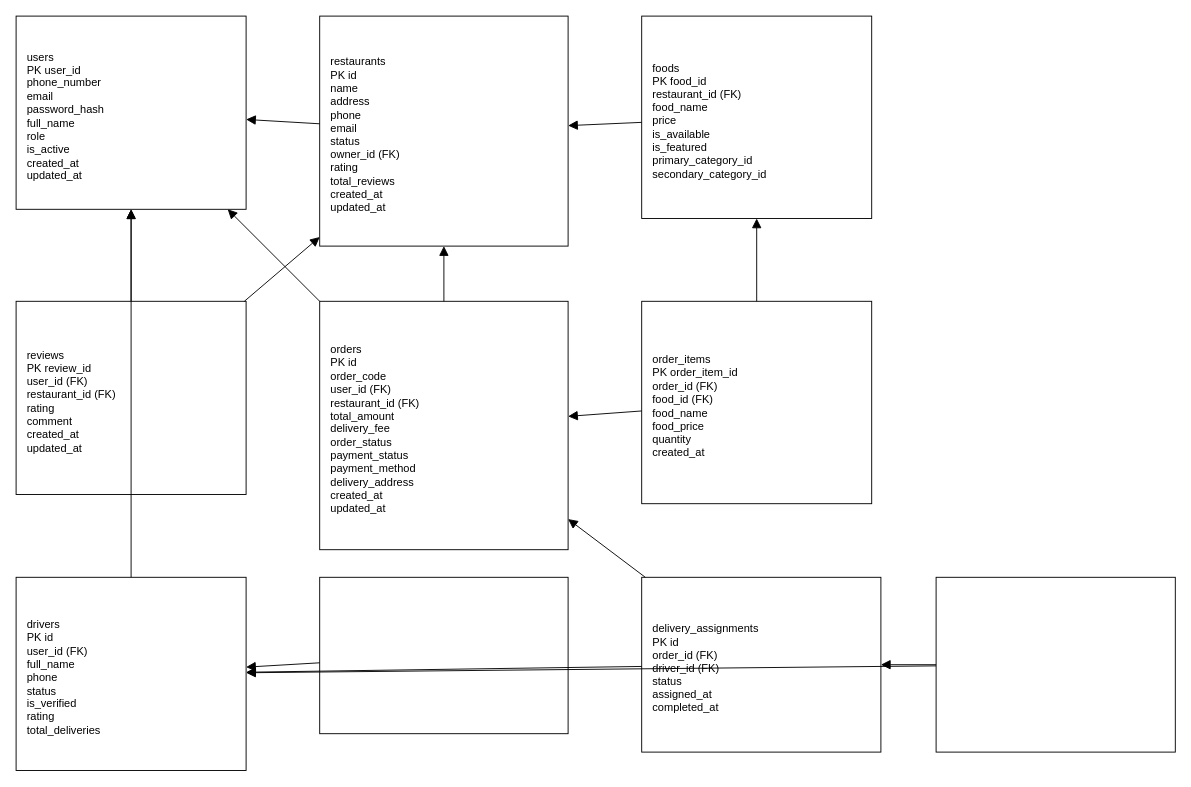
This 1191x787 diagram has some shape labels left out. The centre of each missing label's shape, as x and y in pixels:
"driver_earnings PK id driver_id (FK) assignment_id (FK) amount type earned_at" belongs at pixel 1055 664.
"driver_locations PK driver_id (FK) latitude longitude accuracy updated_at" belongs at pixel 443 655.
